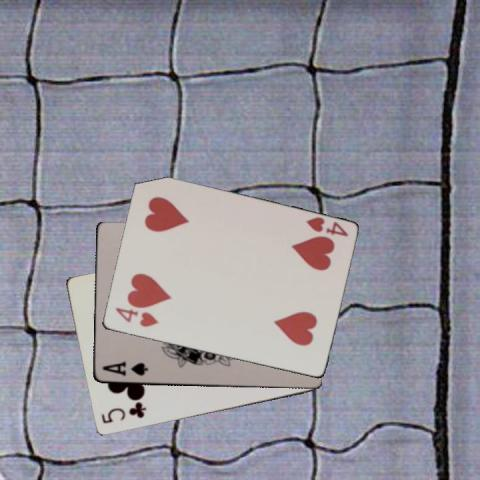4h: (112, 304, 160, 329), (303, 214, 349, 239)
5c: (98, 402, 147, 426)
As: (99, 358, 149, 378)
